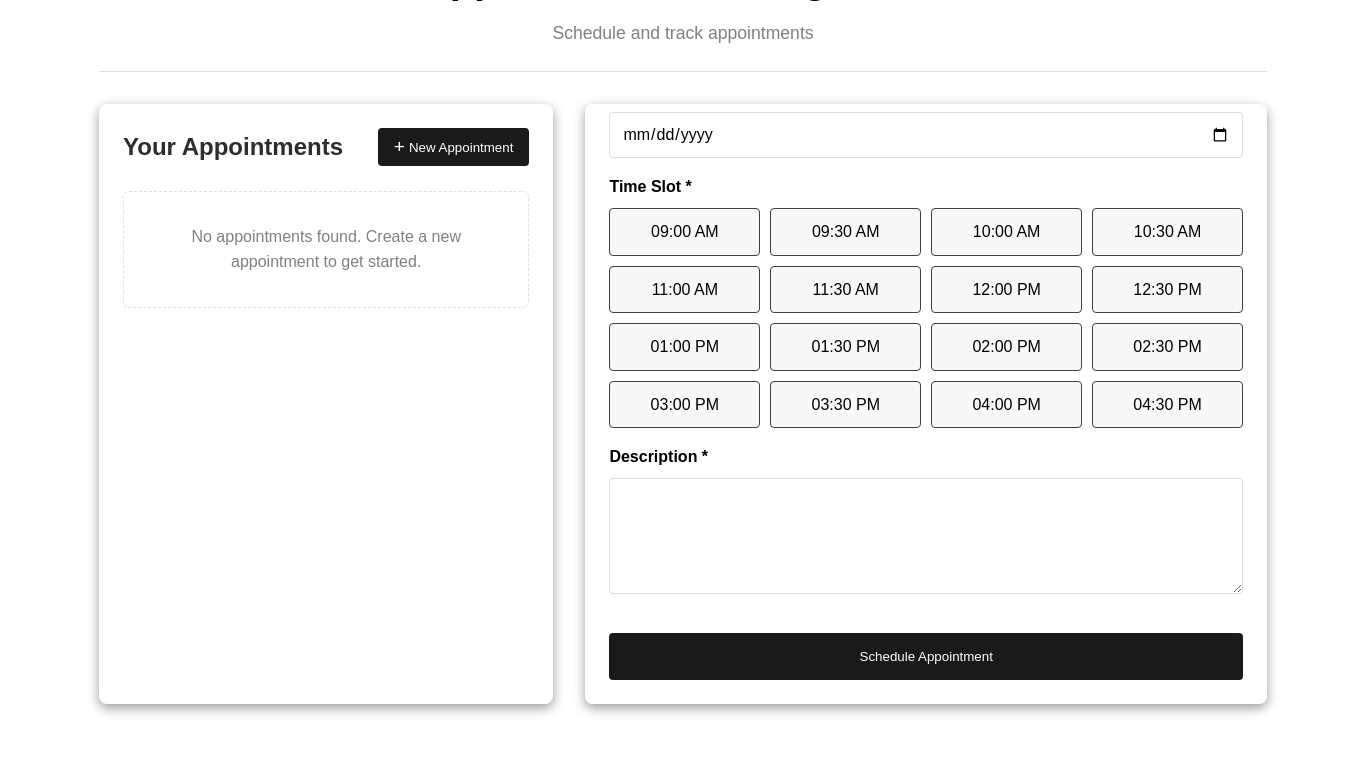
it: UserAppointments Component › shows validation errors for empty fields
(page scrolled)
Click the button "Schedule Appointment". click: (926,657)
box: [609,634,1243,680]
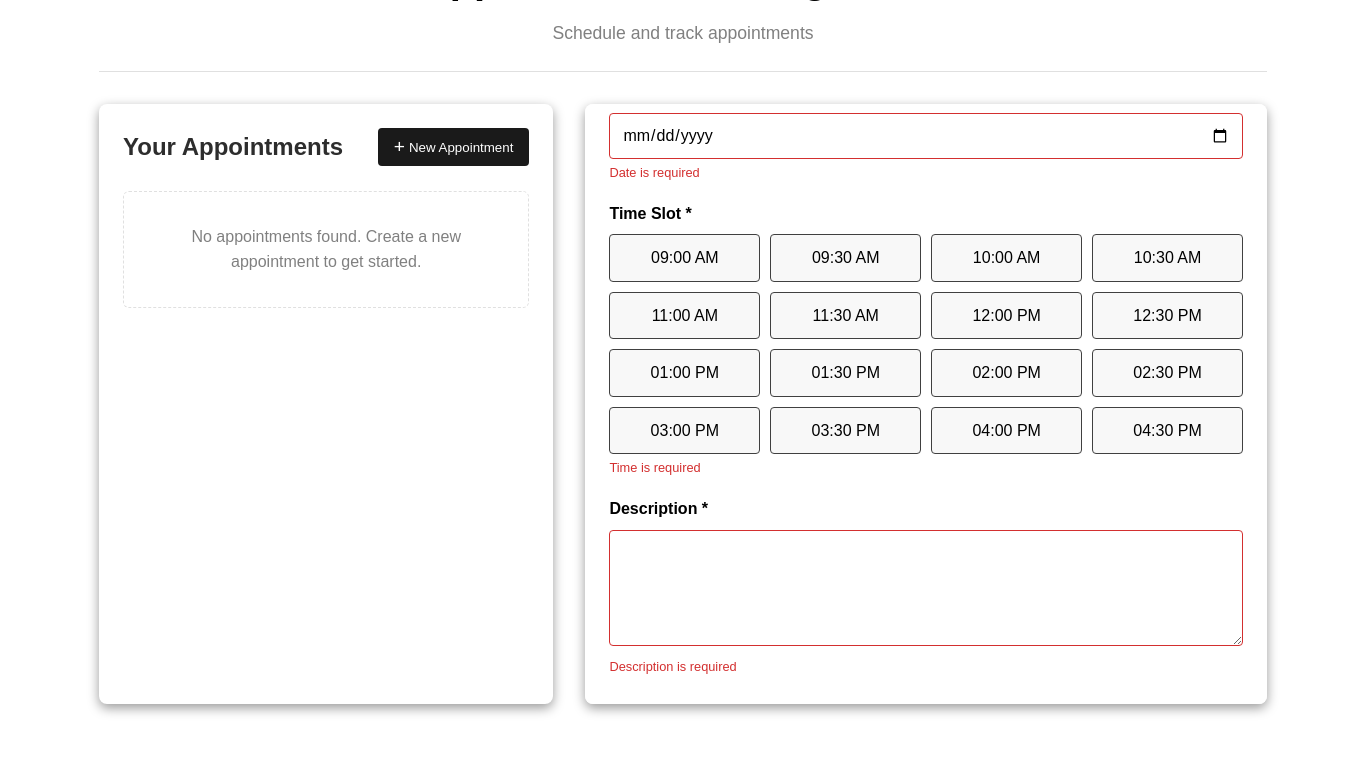
Check: the text "Date is required" is shown, box [609,165,700,180]
Check: the text "Time is required" is shown, box [609,460,701,476]
Check: the text "Description is required" is shown, box [609,659,737,674]
